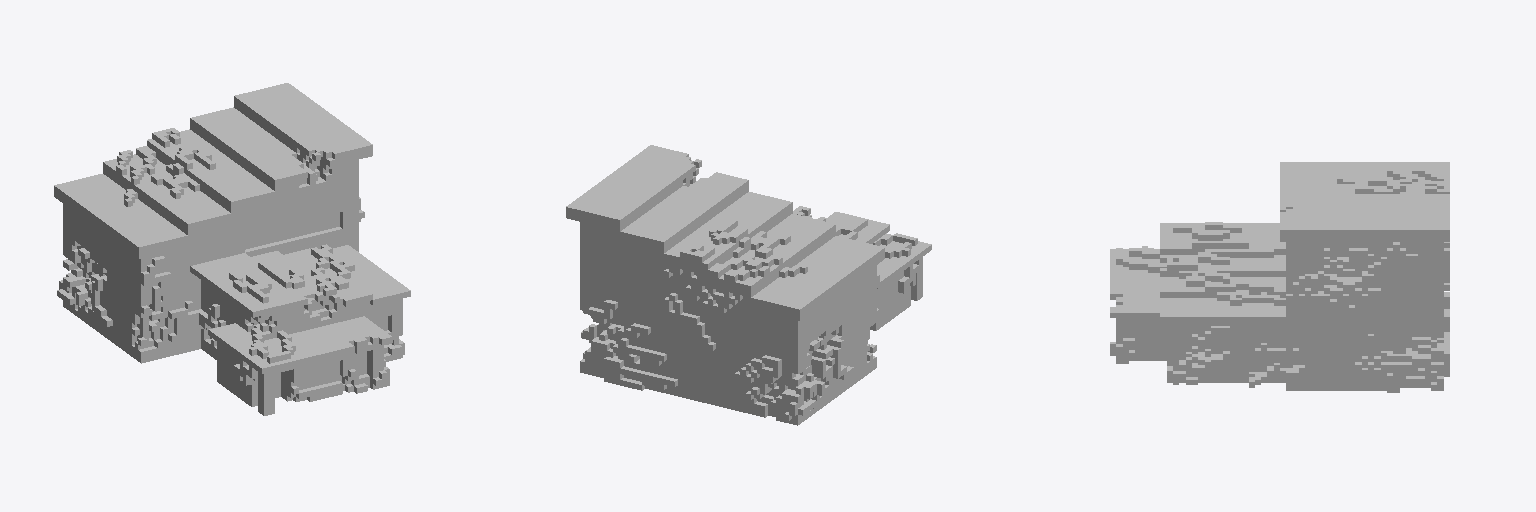
File: Research Institute.obj
3 renders of one model, left to right at view 1: azimuth 30°, elevation 25°; view 2: azimuth 150°, elevation 25°; view 3: azimuth 270°, elevation 25°, orthographic.
Parts seen in each view (by area): view 1: object 1; view 2: object 1; view 3: object 1.
Boxes of the visible parts, x1,y1,x2,y2 form: object 1: [54, 83, 410, 415]; object 1: [566, 145, 931, 425]; object 1: [1110, 162, 1449, 392].
Bounding box in the file's own units: 4.3 × 2.9 × 5.4.